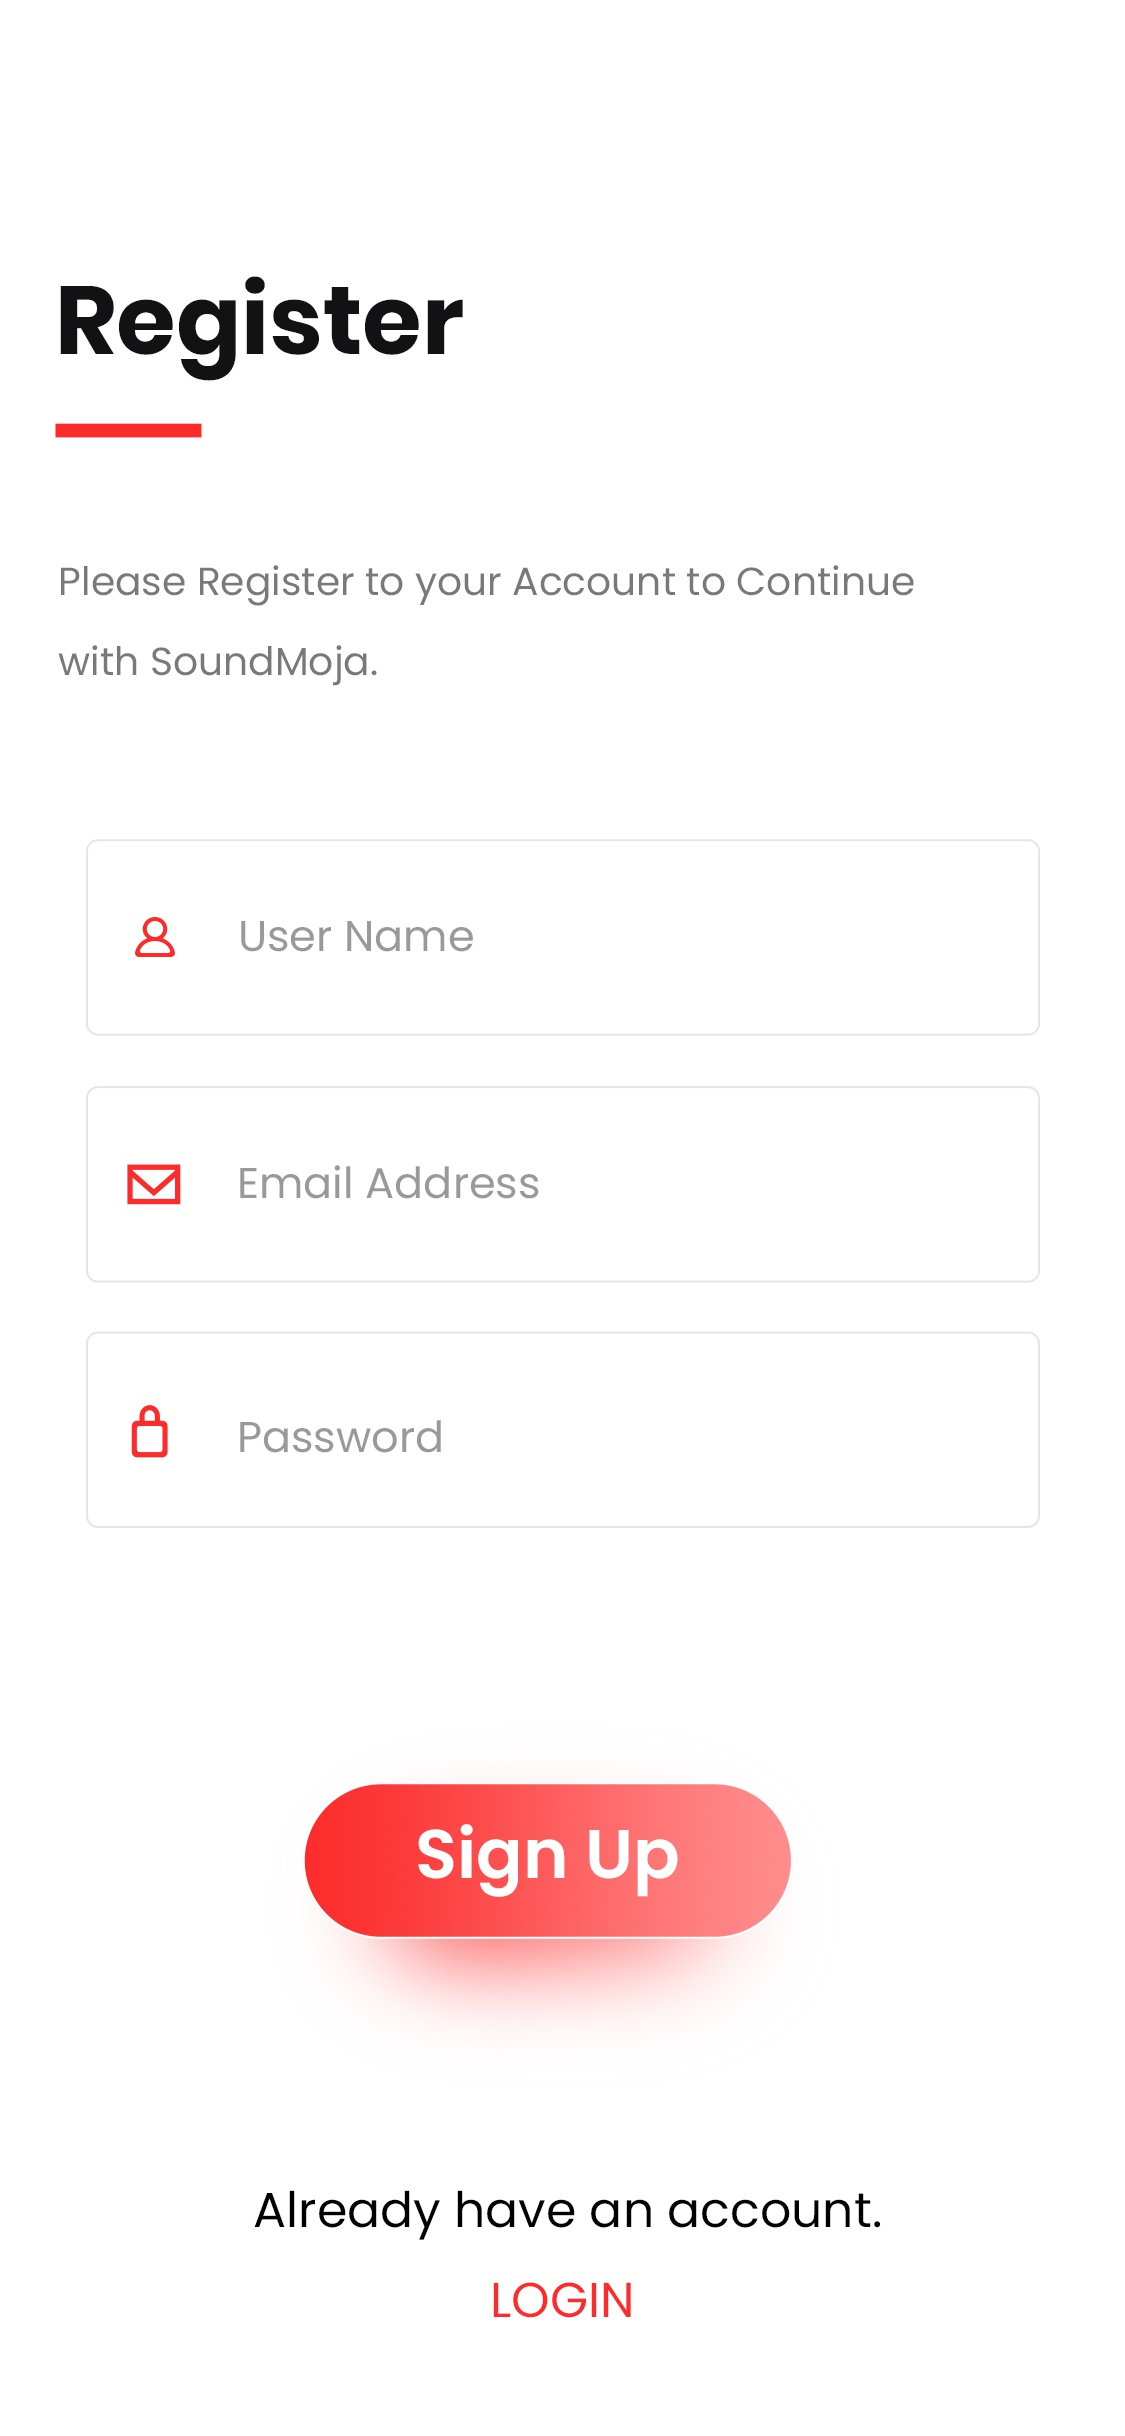EditText: (85, 1086, 1041, 1283), (85, 1331, 1041, 1529), (87, 839, 1040, 1036)
Icon: (127, 1164, 182, 1206), (132, 1404, 169, 1459), (135, 917, 177, 959)
Text: (57, 565, 915, 687), (61, 275, 465, 384), (253, 2189, 883, 2240), (239, 1165, 539, 1199), (239, 1418, 441, 1456), (241, 921, 474, 952), (493, 2281, 632, 2319)
TextButton: (305, 1783, 792, 1940)
